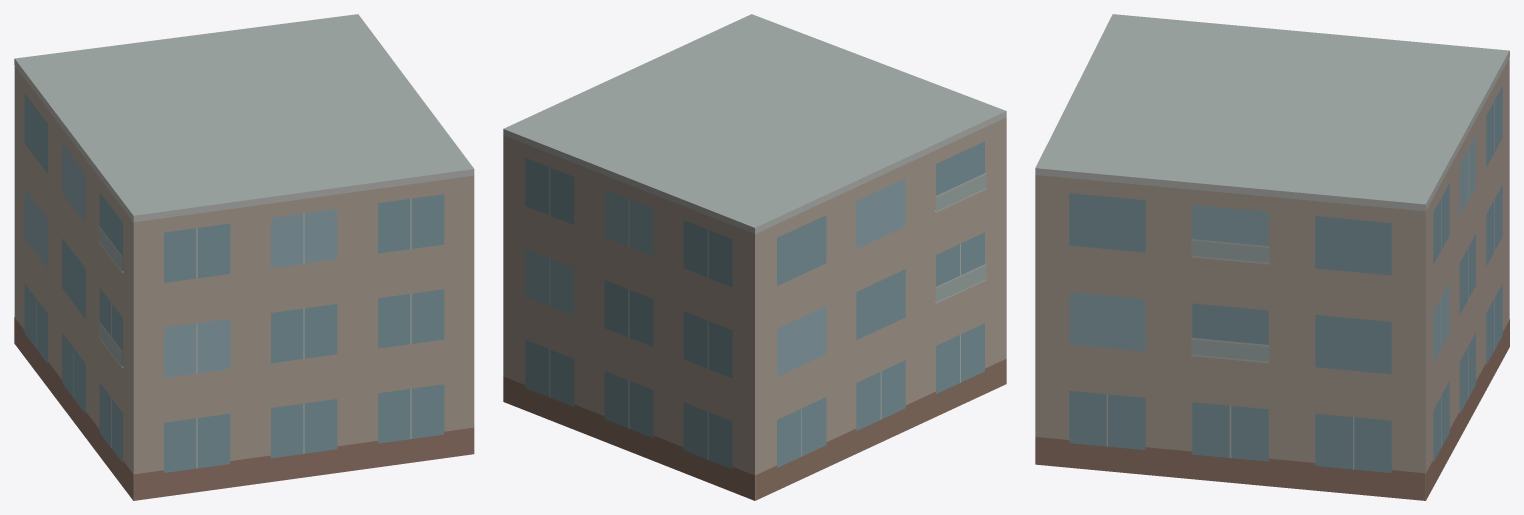
The model's file is survey-upis-33008535.glb.
3 renders of one model, left to right at view 1: azimuth 30°, elevation 25°; view 2: azimuth 150°, elevation 25°; view 3: azimuth 270°, elevation 25°, orthographic. The views are drawn at different scales.
Visible parts, largest first — view 1: survey-upis-33008535.tmp; view 2: survey-upis-33008535.tmp; view 3: survey-upis-33008535.tmp.
Part boxes in pixels (box(x1,y1,x2,y2)): survey-upis-33008535.tmp: box(14, 14, 474, 500); survey-upis-33008535.tmp: box(503, 14, 1006, 500); survey-upis-33008535.tmp: box(1035, 14, 1509, 500).
Bounding box in the file's own units: 14.61 × 10.6 × 15.39.
